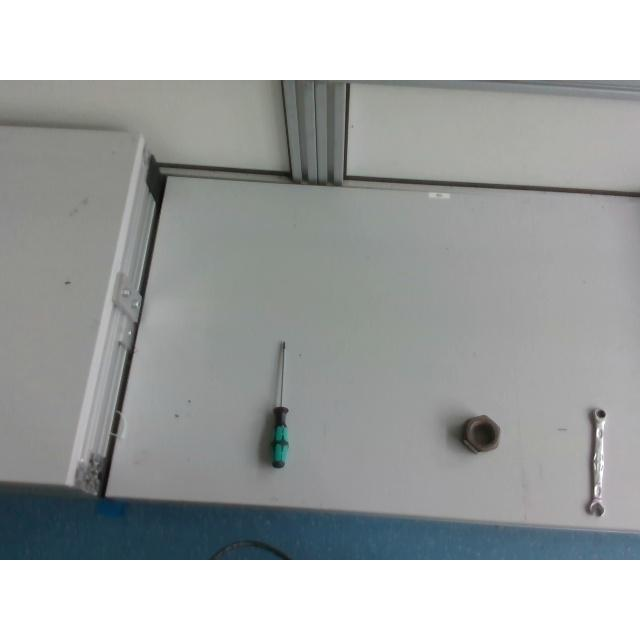M30: (461, 414, 499, 450)
Screwdriver: (270, 340, 292, 468)
Wrench: (586, 408, 606, 518)
